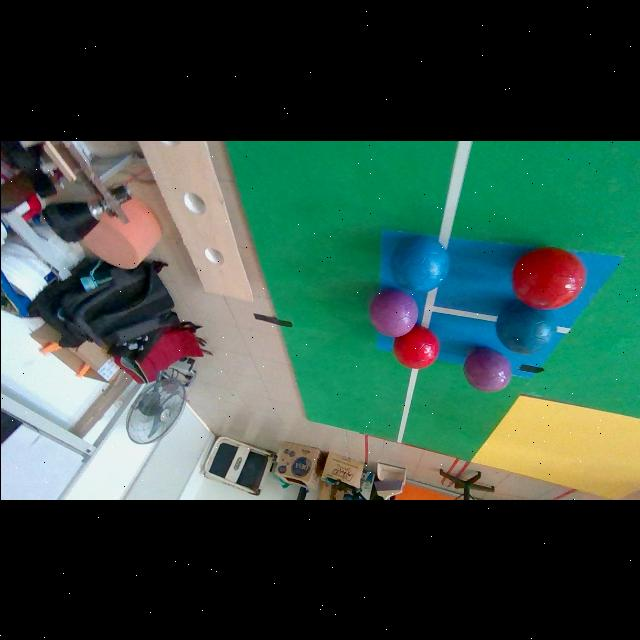B: (390, 235, 449, 292), (494, 302, 556, 354)
P: (369, 289, 417, 337), (463, 347, 510, 392)
R: (511, 247, 585, 309), (392, 325, 438, 369)
